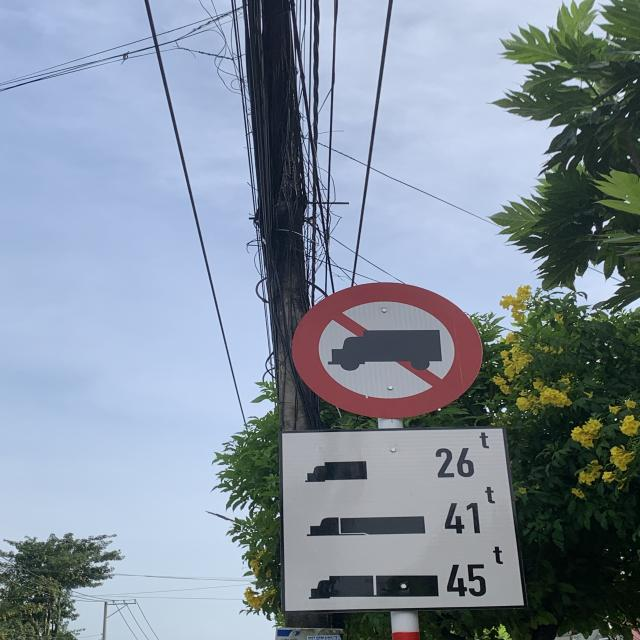Cam_Xe_Tai: (290, 280, 488, 416)
